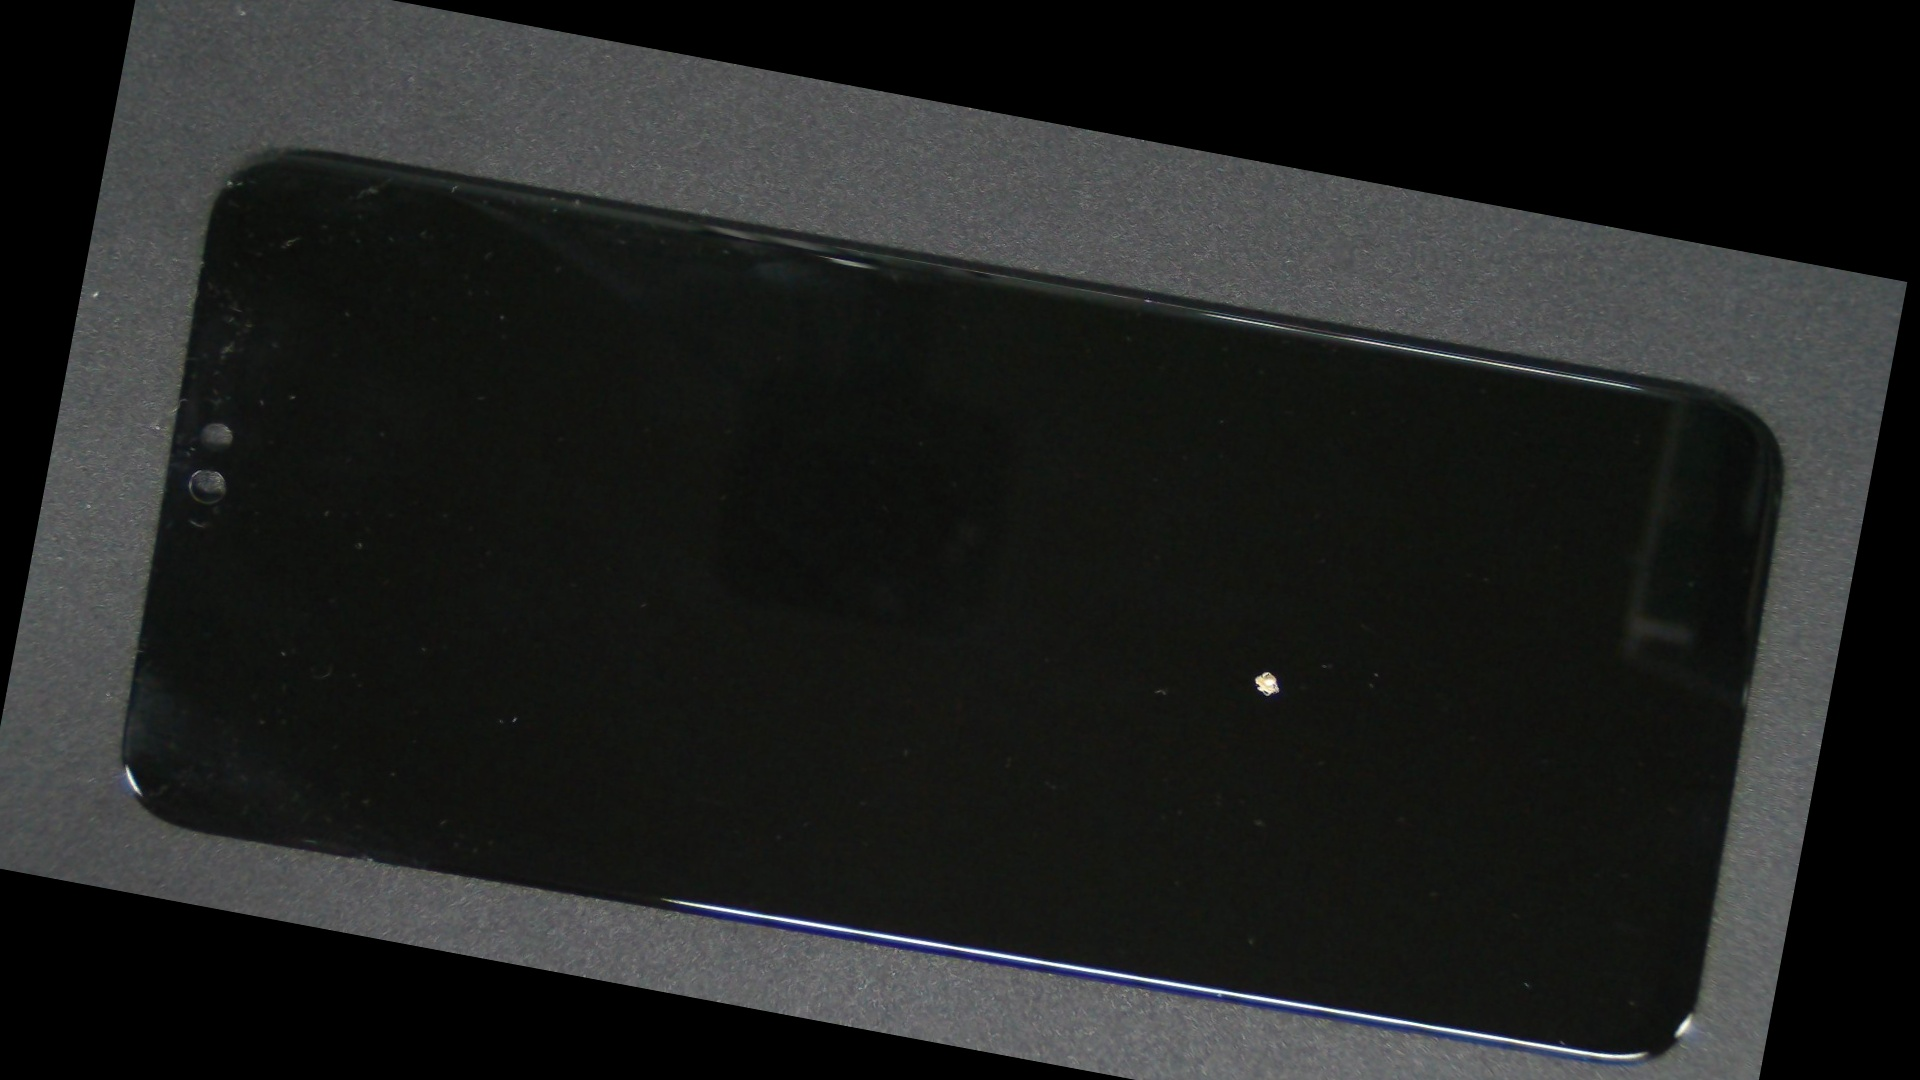oil: (616, 313, 1862, 1018)
